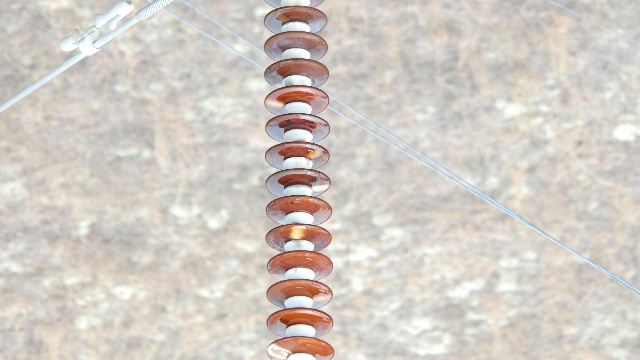insulator_unspecified: (260, 0, 337, 359)
pollution_flashover_local: (287, 223, 308, 242), (268, 343, 291, 359), (266, 98, 290, 111), (310, 292, 337, 302), (306, 148, 324, 160)
